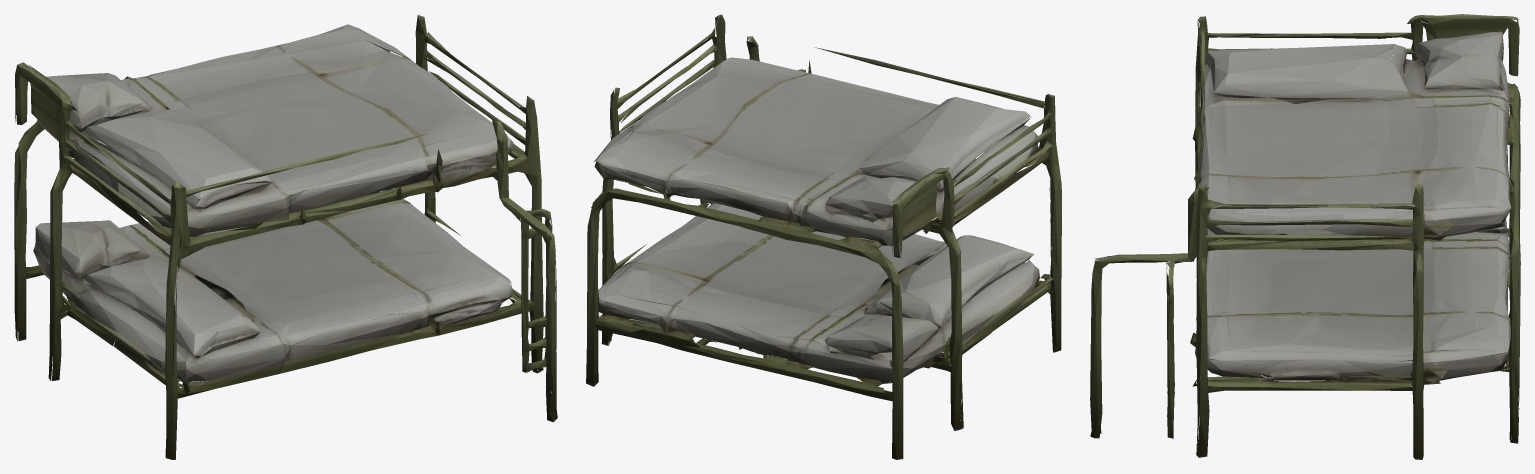
Rendered from bunk.glb.
3 views of the same model, side by side, from view 1: azimuth 30°, elevation 25°; view 2: azimuth 150°, elevation 25°; view 3: azimuth 270°, elevation 25° (orthographic). The views are drawn at different scales.
Visible parts, largest first — view 1: world; view 2: world; view 3: world.
Part boxes in pixels (x1,y1,x2,y2): world: (14,15,557,459); world: (586,14,1061,459); world: (1090,14,1520,459).
Size of the model in its own units: 0.995 by 0.6869 by 0.9872.
Materials: 1 (1 with a texture image).
